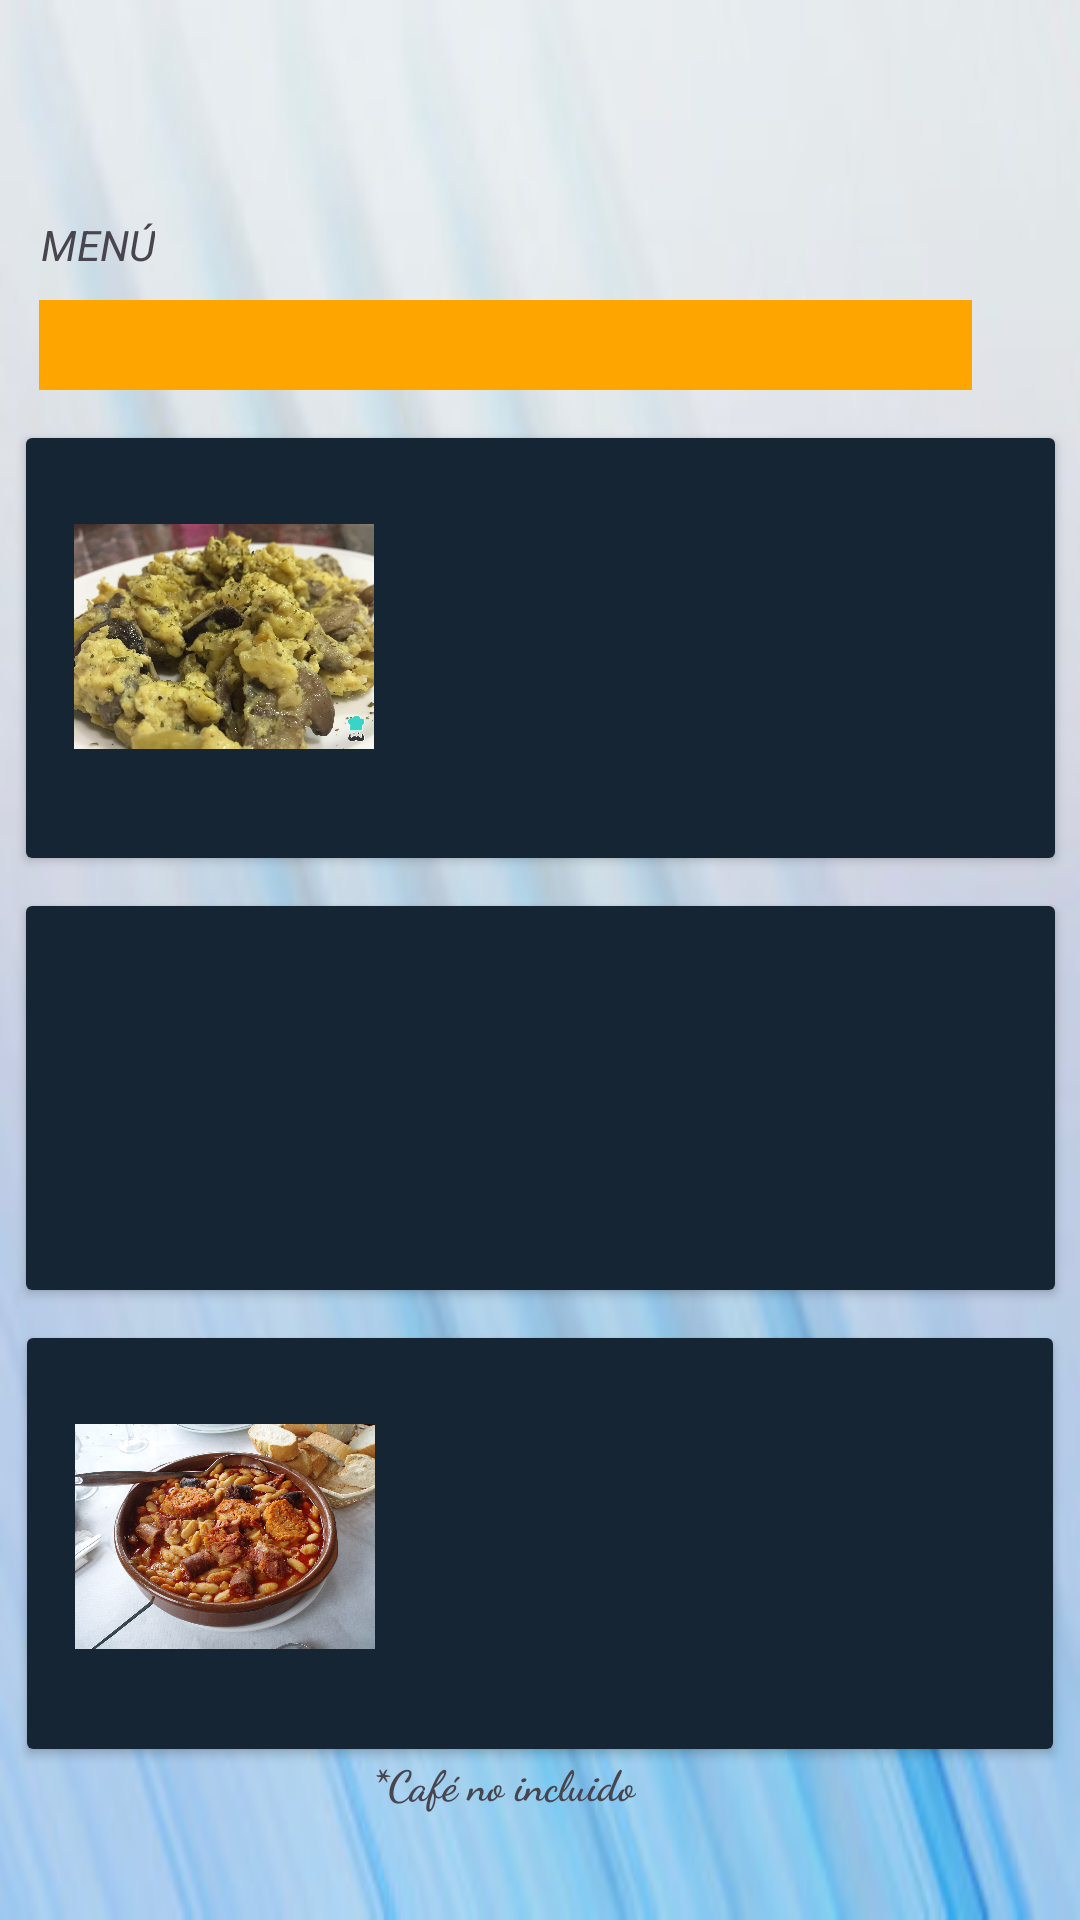

Icon bounding boxes for this 1080w x 1920h phone screenshot, format (x1, y1, x2, y2):
primerplato: (74, 524, 374, 749), (75, 1424, 375, 1649)
